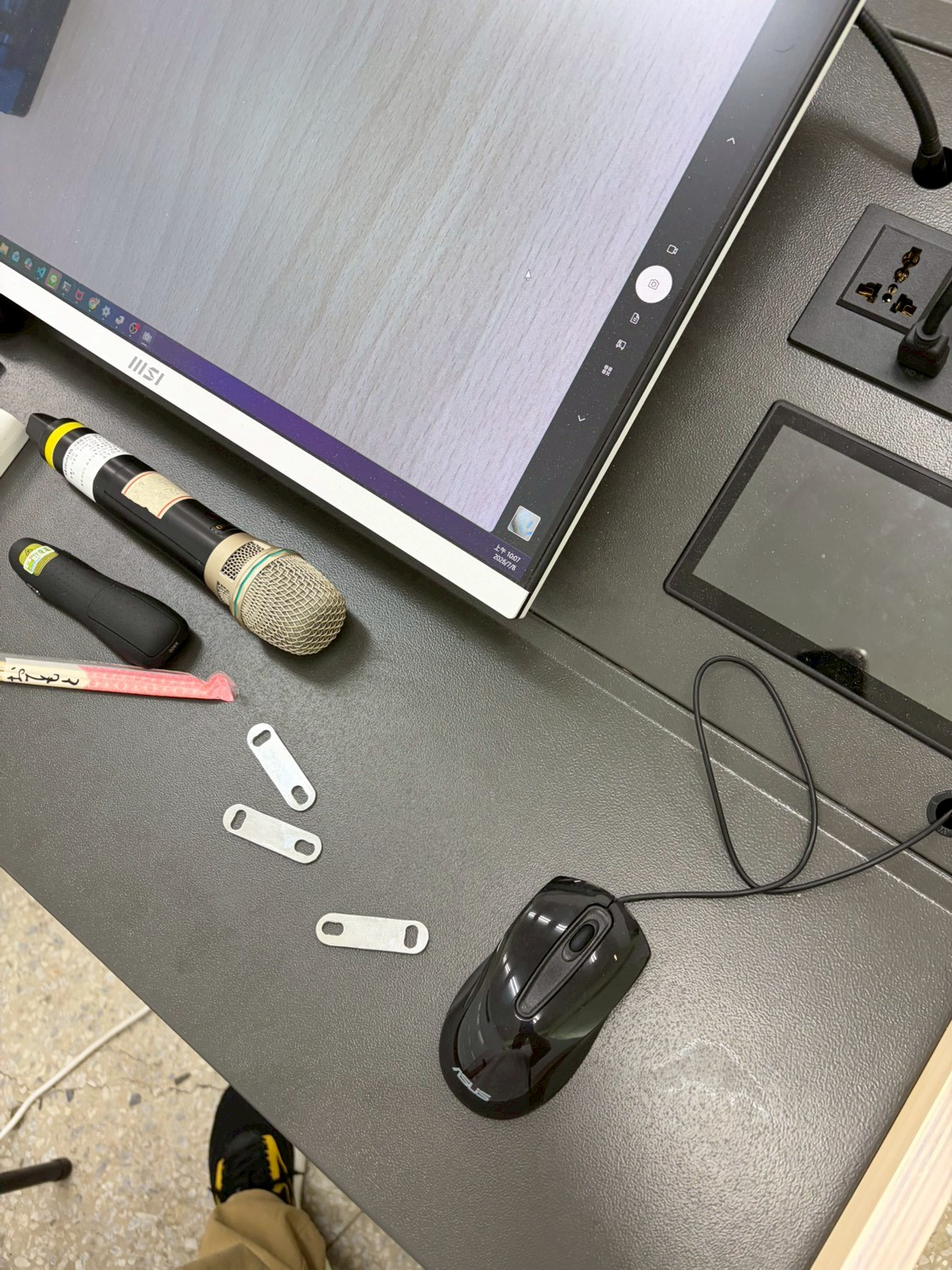Fe: (301, 900, 439, 960), (214, 795, 320, 868), (244, 721, 327, 808)
